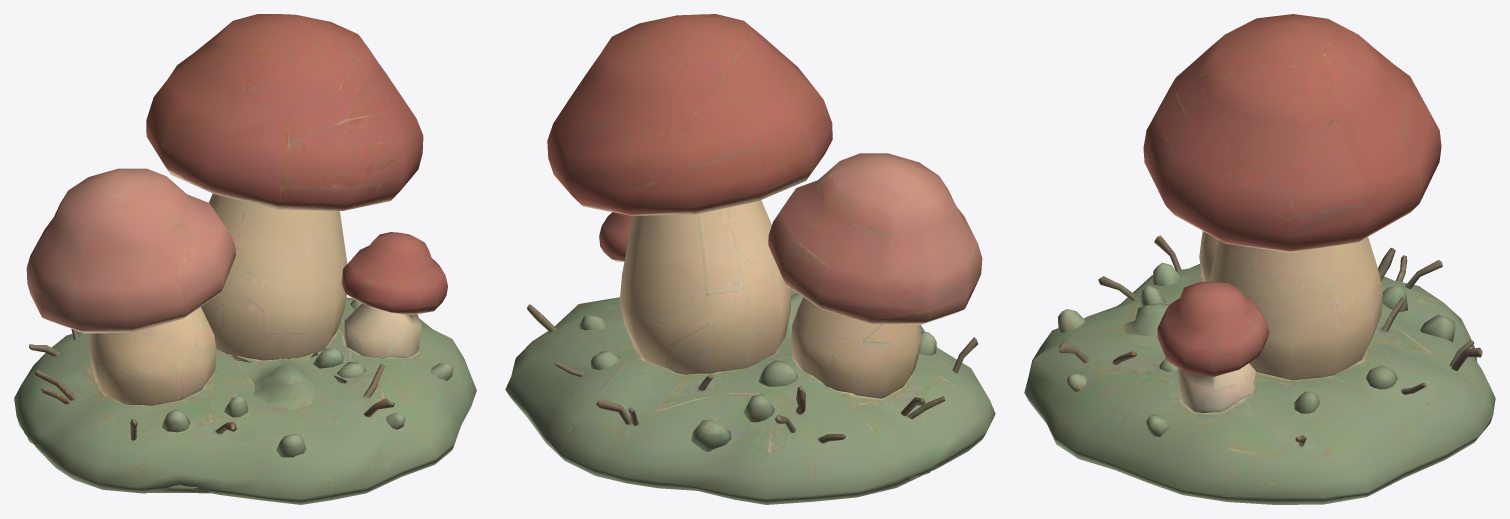
Rendered from mushrooms.glb.
The picture shows the model from 3 angles, left to right: view 1: azimuth 30°, elevation 25°; view 2: azimuth 150°, elevation 25°; view 3: azimuth 270°, elevation 25°; orthographic projection. The views are drawn at different scales.
Size of the model in its own units: 1 by 0.8714 by 0.9349.
Materials: 1 (1 with a texture image).
